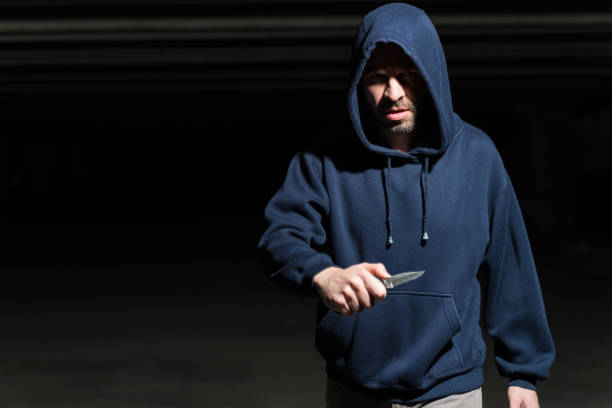knife: (378, 268, 427, 291)
